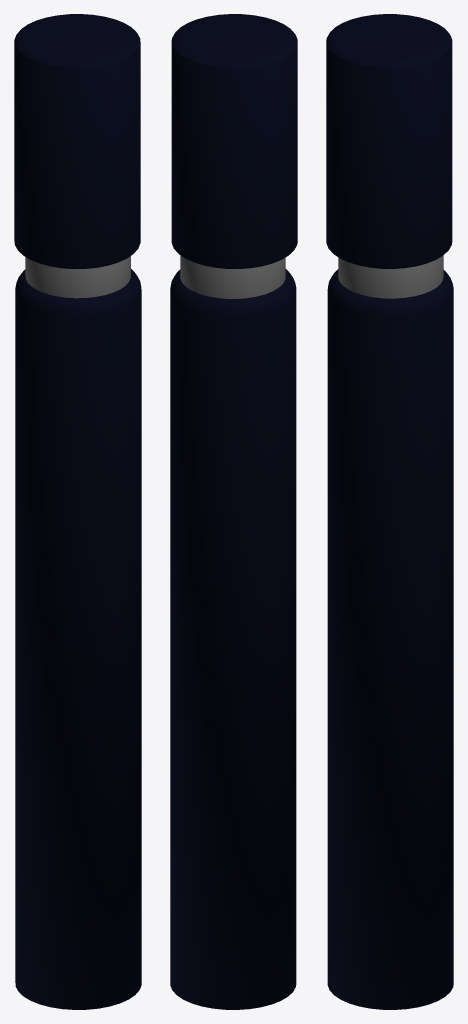
The model's file is barricade.glb.
The picture shows the model from 3 angles, left to right: view 1: azimuth 30°, elevation 25°; view 2: azimuth 150°, elevation 25°; view 3: azimuth 330°, elevation 25°; orthographic projection.
Visible parts, largest first — view 1: 柱体.001, 柱体.003, 柱体.002; view 2: 柱体.001, 柱体.003, 柱体.002; view 3: 柱体.001, 柱体.003, 柱体.002.
Boxes of the visible parts, x1=… form: 柱体.001: x1=15, y1=269, x2=141, y2=1009; 柱体.003: x1=14, y1=14, x2=140, y2=268; 柱体.002: x1=25, y1=256, x2=130, y2=298; 柱体.001: x1=170, y1=269, x2=296, y2=1009; 柱体.003: x1=171, y1=14, x2=297, y2=268; 柱体.002: x1=180, y1=255, x2=285, y2=298; 柱体.001: x1=327, y1=269, x2=453, y2=1009; 柱体.003: x1=326, y1=14, x2=452, y2=268; 柱体.002: x1=338, y1=255, x2=443, y2=298.
Bounding box in the file's own units: 2.64 × 21.54 × 2.62.
